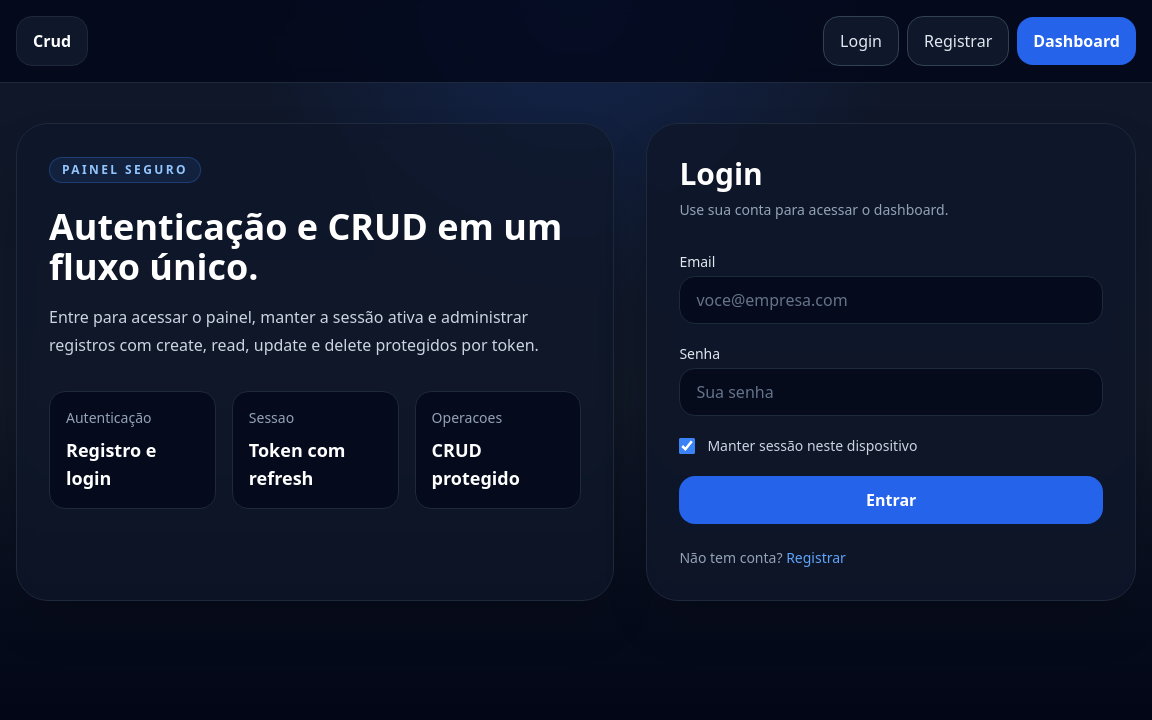
it: Header interatividade › links do header navegam mesmo com overlay wave na Login
The width and height of the screenshot is (1152, 720).
What coordinates should you click on to do the following:
click the 1st link "Registrar"
I would click on:
 (958, 41)
Its box is [907,16,1009,66].
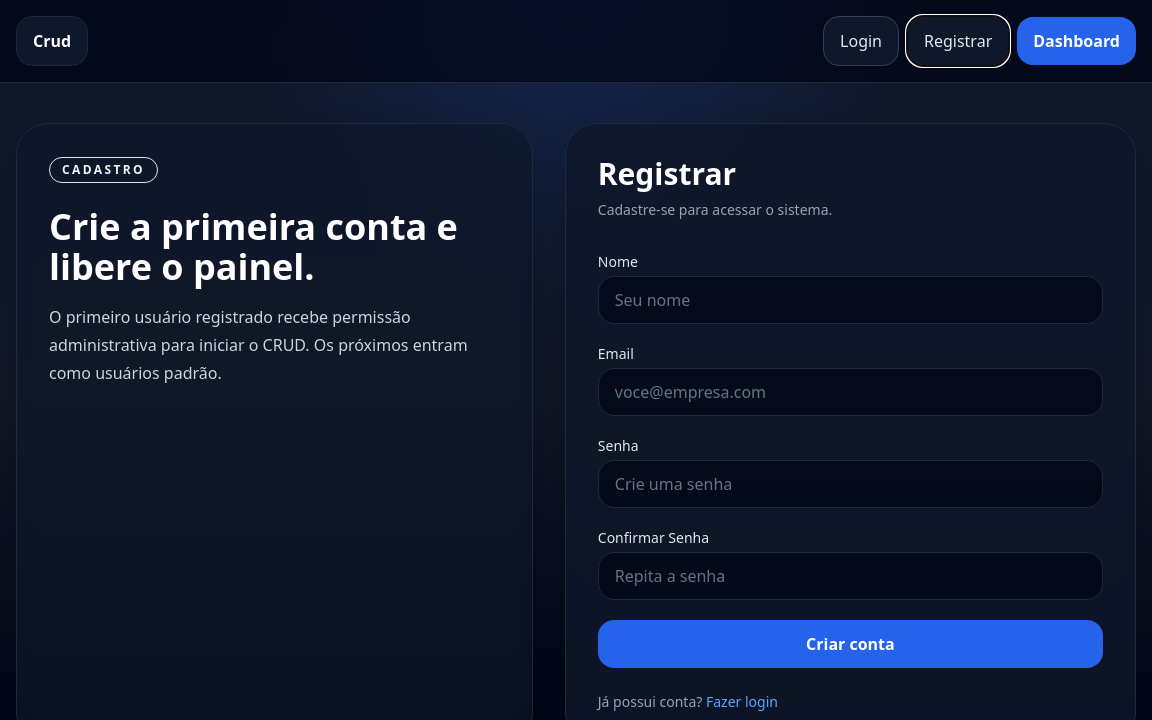
expect the heading "Registrar" is shown: met, box [598,153,736,194]
